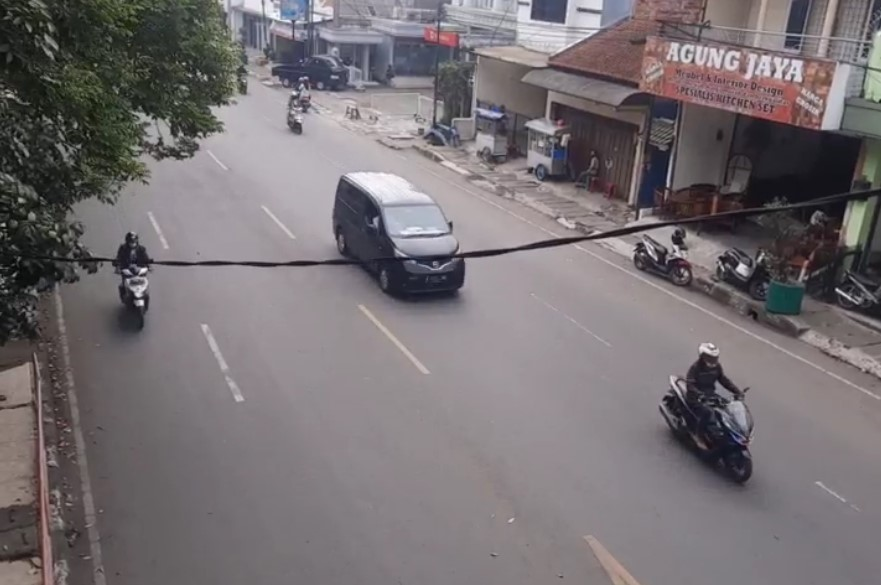mobil: (319, 151, 468, 298)
motor: (668, 333, 760, 492), (111, 230, 166, 333)
